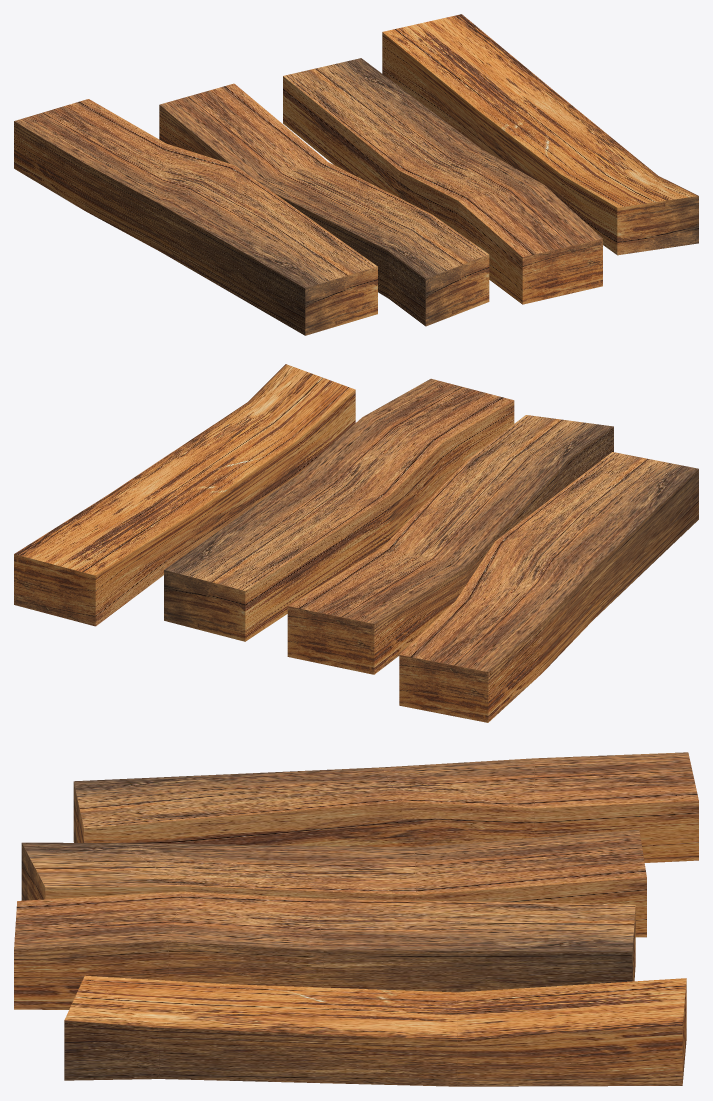
Rendered from ground-planks.fbx.
3 views of the same model, one above another, from view 1: azimuth 30°, elevation 25°; view 2: azimuth 150°, elevation 25°; view 3: azimuth 270°, elevation 25° (orthographic). The views are drawn at different scales.
Visible parts, largest first — view 1: Cube, Cube.002, Cube.003, Cube.001; view 2: Cube, Cube.002, Cube.003, Cube.001; view 3: Cube.003, Cube.002, Cube, Cube.001.
Part boxes in pixels (bbox=[...]): Cube: bbox=[14, 99, 377, 335]; Cube.002: bbox=[283, 58, 602, 304]; Cube.003: bbox=[382, 14, 698, 255]; Cube.001: bbox=[159, 83, 489, 326]; Cube: bbox=[399, 452, 698, 722]; Cube.002: bbox=[164, 378, 514, 641]; Cube.003: bbox=[14, 364, 355, 626]; Cube.001: bbox=[287, 415, 613, 674]; Cube.003: bbox=[64, 975, 686, 1086]; Cube.002: bbox=[14, 891, 635, 1009]; Cube: bbox=[73, 752, 698, 862]; Cube.001: bbox=[21, 829, 646, 937].
Bounding box in the file's own units: 315 × 40.64 × 332.
